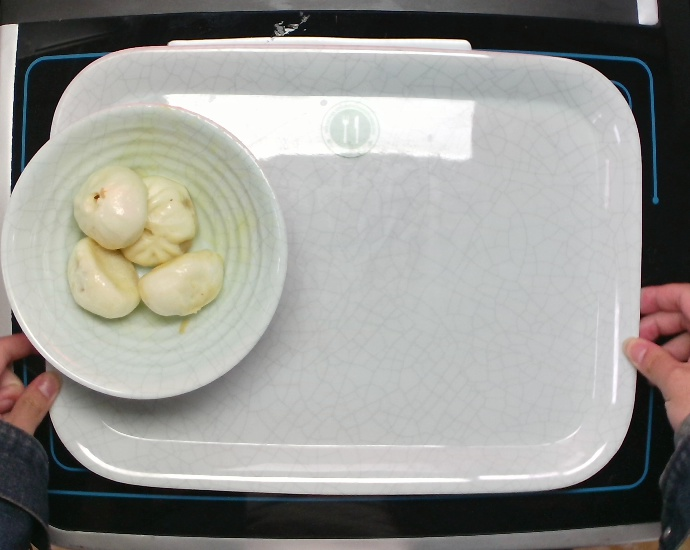JYsf-Xiao_Tang_Wan: (1, 105, 300, 402)
